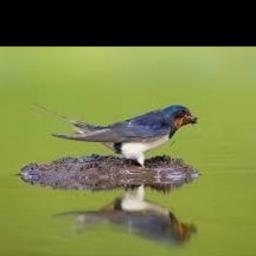Swallow: (30, 104, 197, 168)
